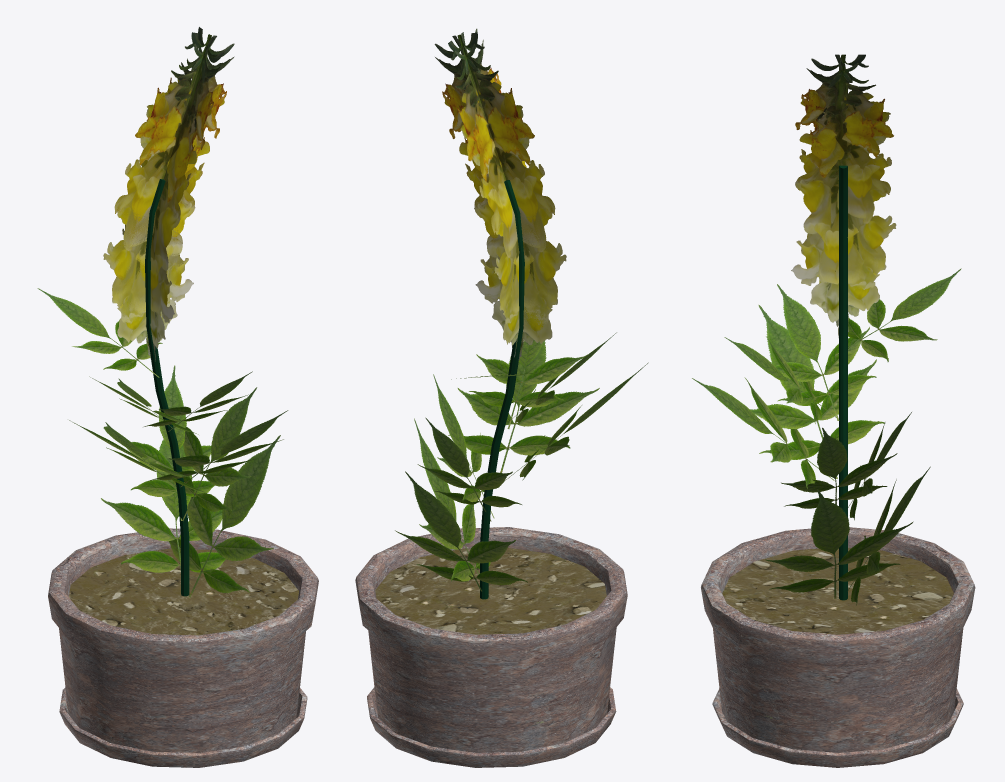
Rendered from plant-box.fbx.
3 renders of one model, left to right at view 1: azimuth 30°, elevation 25°; view 2: azimuth 150°, elevation 25°; view 3: azimuth 270°, elevation 25°, orthographic.
Visible parts, largest first — view 1: Mesh; view 2: Mesh; view 3: Mesh.
Boxes of the visible parts, <box> form: Mesh: <box>37,27,318,767</box>; Mesh: <box>355,28,648,767</box>; Mesh: <box>692,54,975,767</box>.
Size of the model in its own units: 126 by 319 by 125.
